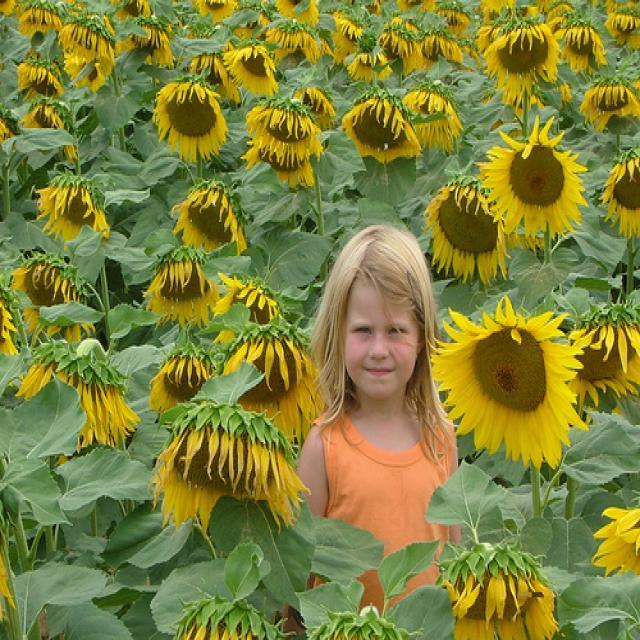sunflower: (430, 296, 585, 467), (148, 428, 311, 532), (476, 115, 590, 235), (216, 331, 322, 448), (25, 363, 138, 457), (442, 551, 556, 640), (427, 178, 507, 286), (485, 26, 560, 110), (569, 319, 640, 406), (152, 84, 224, 160), (145, 258, 218, 326), (172, 188, 246, 254), (346, 101, 416, 167), (208, 273, 279, 337), (242, 138, 318, 192), (38, 184, 106, 244), (11, 258, 79, 310), (148, 353, 213, 406), (186, 602, 276, 640), (593, 508, 640, 580), (246, 102, 319, 146), (600, 159, 640, 236), (406, 92, 456, 152), (223, 45, 276, 96), (581, 85, 637, 133), (27, 106, 74, 162), (121, 19, 171, 69), (194, 52, 241, 103), (324, 611, 406, 640), (58, 21, 112, 64), (560, 26, 606, 74), (271, 28, 332, 64), (21, 310, 94, 340), (18, 65, 62, 102), (332, 13, 369, 56), (378, 19, 417, 59), (431, 0, 473, 36), (297, 88, 333, 129), (65, 58, 111, 88), (418, 34, 464, 64), (347, 51, 390, 80), (270, 0, 316, 26), (231, 14, 271, 42), (0, 299, 18, 357), (23, 7, 61, 34), (197, 0, 238, 25), (606, 12, 640, 41), (110, 0, 151, 19)
